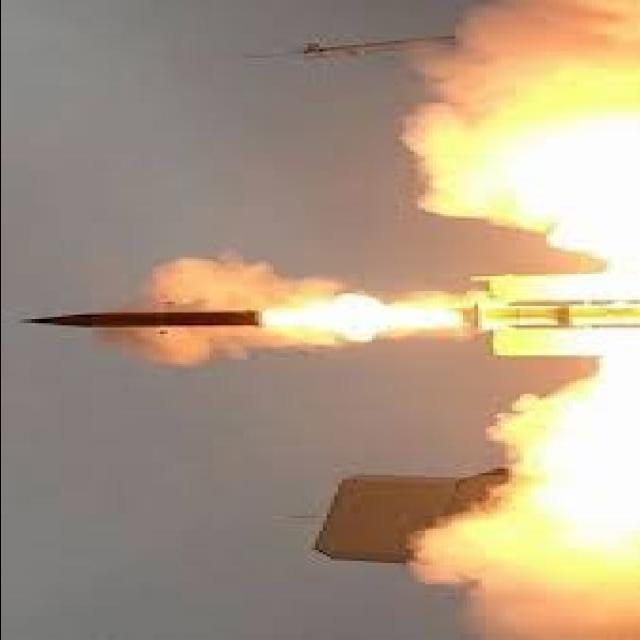missile: (291, 23, 475, 66), (9, 305, 269, 333)
